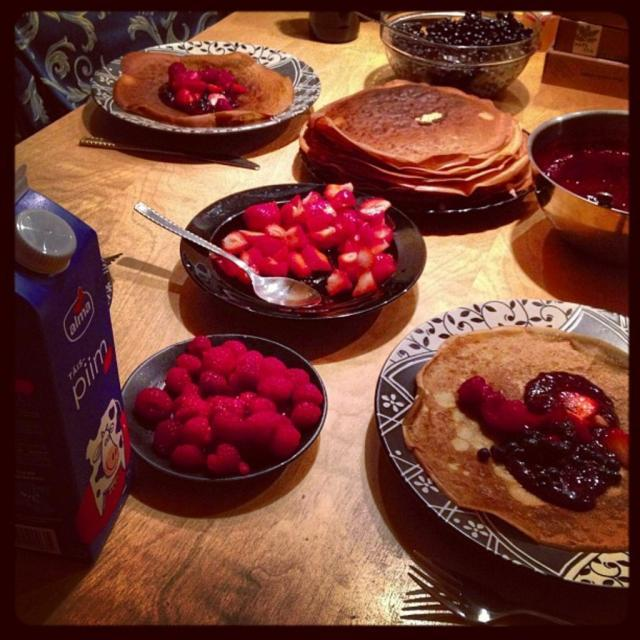Pancake: (397, 325, 635, 553), (295, 82, 533, 214), (105, 45, 297, 129)
